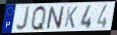4: (79, 4, 92, 30), (96, 4, 109, 30)
J: (15, 6, 32, 32)
K: (64, 6, 79, 30)
N: (45, 6, 65, 31)
Q: (31, 4, 47, 32)
